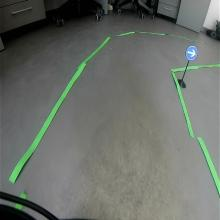right: (185, 45, 198, 60)
